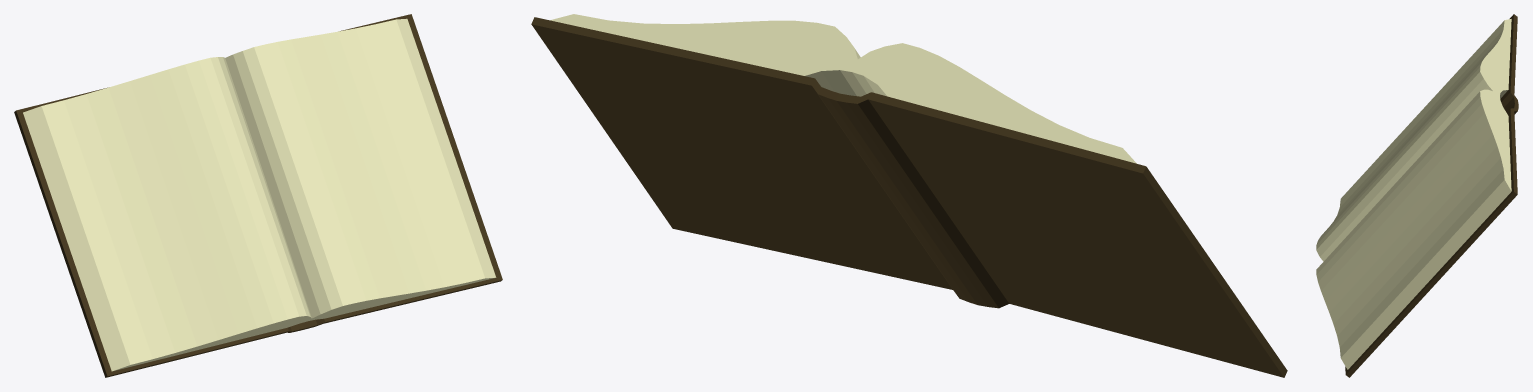
File: book.glb
3 views of the same model, side by side, from view 1: azimuth 30°, elevation 25°; view 2: azimuth 150°, elevation 25°; view 3: azimuth 270°, elevation 25° (orthographic). The views are drawn at different scales.
Parts seen in each view (by area): view 1: Book, Cover; view 2: Cover, Book; view 3: Book, Cover.
Part boxes in pixels (x1,y1,x2,y2): Book: [23, 18, 496, 371]; Cover: [14, 14, 502, 377]; Cover: [531, 17, 1287, 377]; Book: [550, 14, 1136, 163]; Book: [1316, 19, 1511, 369]; Cover: [1345, 14, 1518, 377].
Size of the model in its own units: 4.46 by 2.44 by 2.15.
